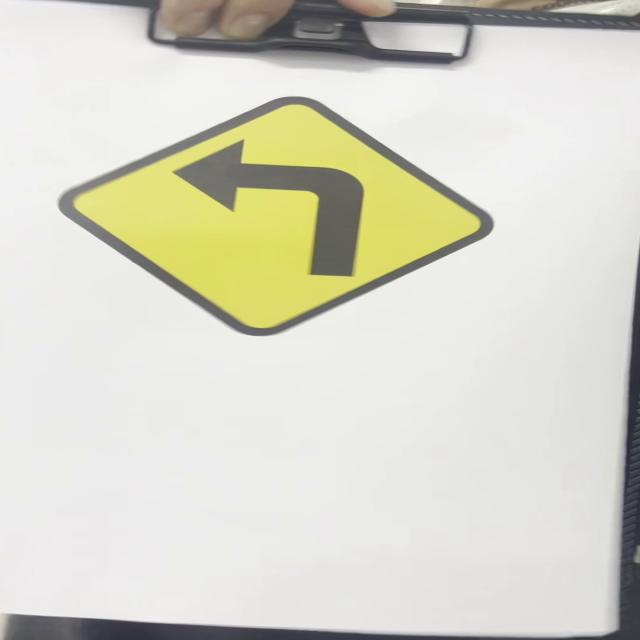left: (54, 96, 503, 342)
